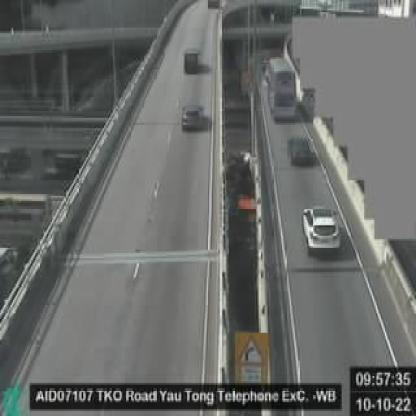Bus: (265, 58, 298, 123)
Car: (300, 204, 342, 257), (287, 135, 314, 167), (181, 100, 202, 130), (185, 45, 201, 71)
